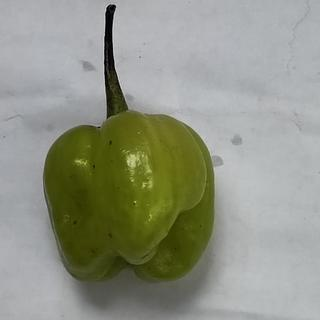Fly-bites: (102, 134, 121, 151), (104, 228, 120, 241), (68, 218, 84, 229), (89, 160, 100, 174)
